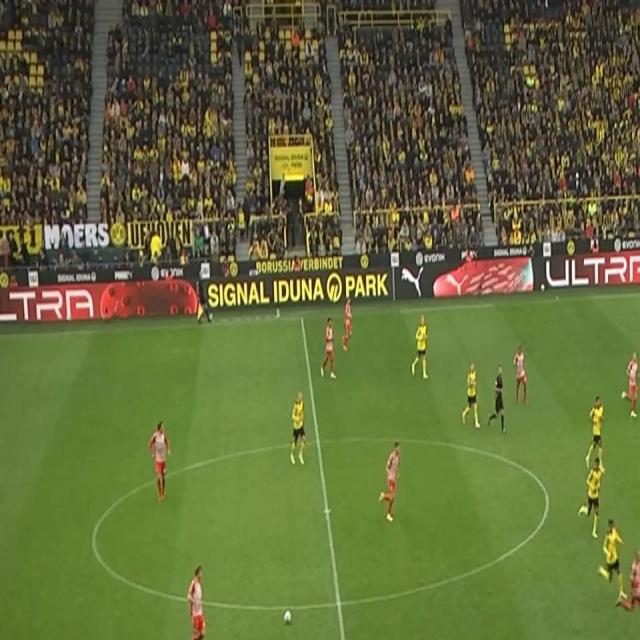ball: (283, 609, 293, 626)
